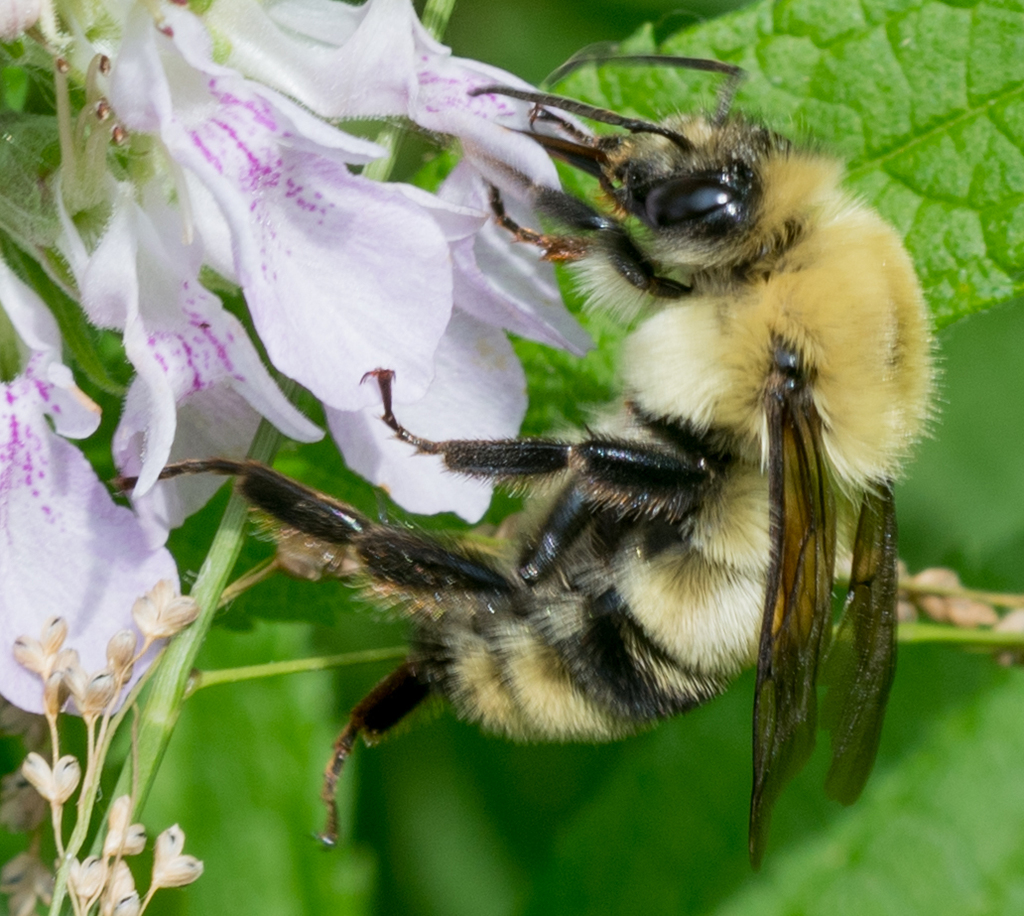bumblebee: (108, 53, 947, 872)
